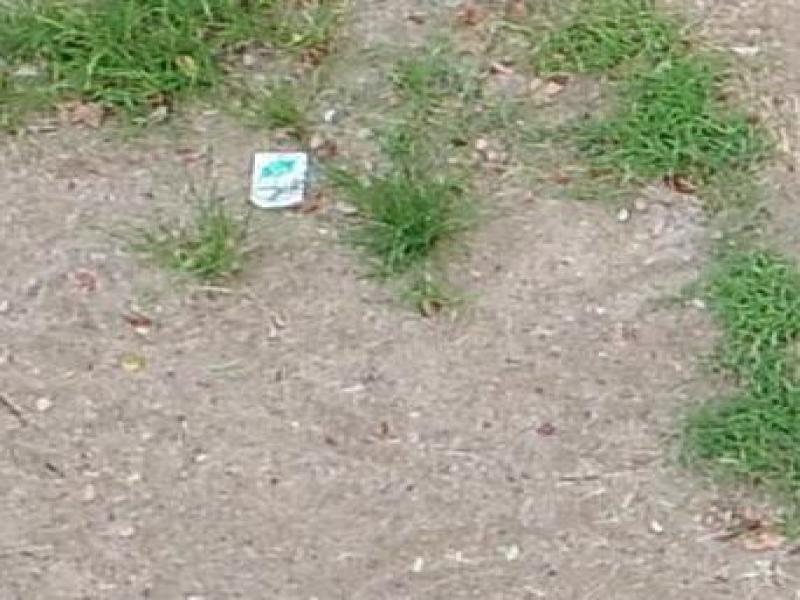bottle: (249, 150, 310, 210)
